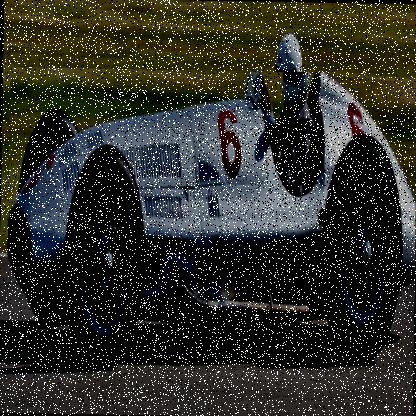Car: (5, 66, 415, 374)
